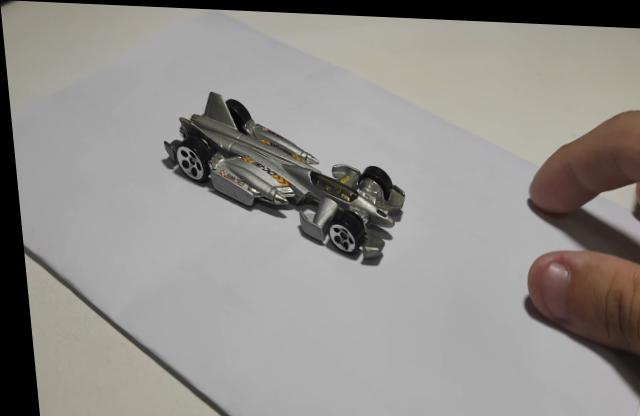05_DC121: (159, 91, 403, 264)
